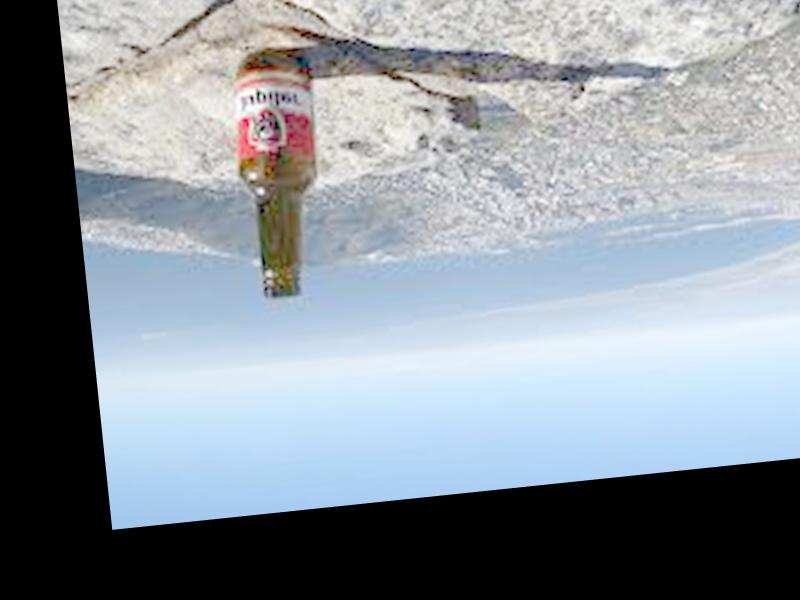Beer: (225, 54, 333, 303)
